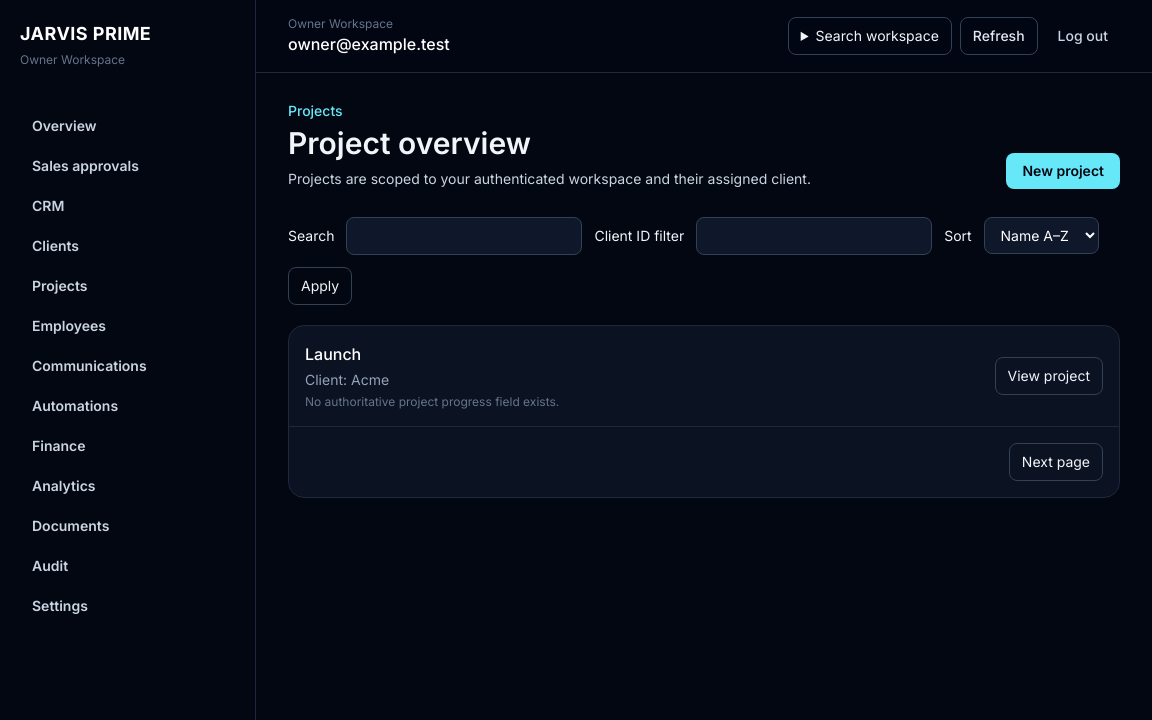
Test: Owner Workspace project quick action › displays a generated Client ID but submits the selected client UUID to the existing owner-scoped endpoint
Click the button "New project" at point(1063, 171), box [1006,153,1120,189]
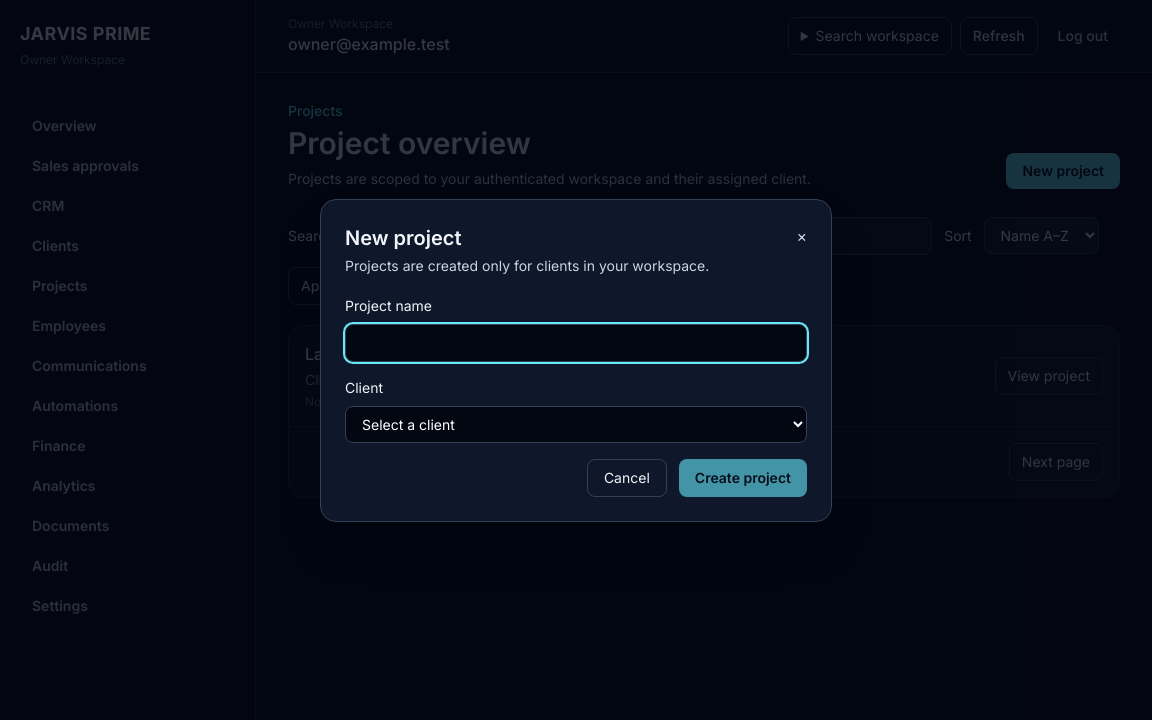
Type "Launch extension" into the field labelled "Project name" at point(576, 342), box [345,324,807,362]
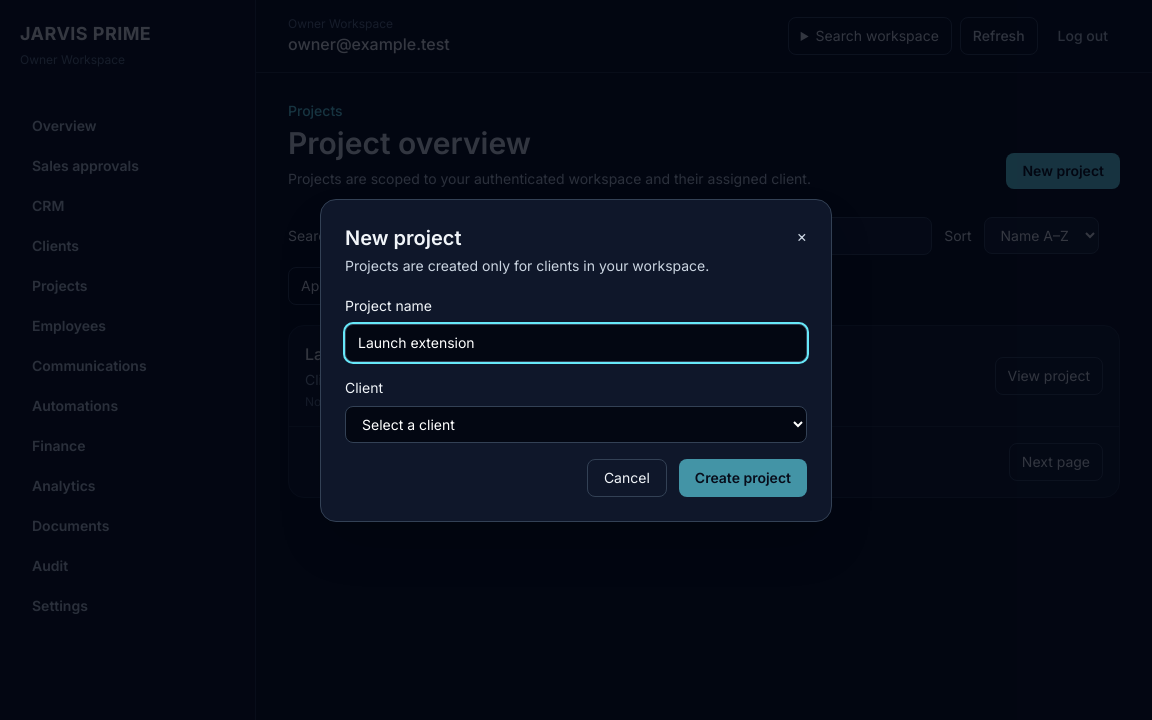
Select "Acme (JP-CLI-000001)" in the dropdown named "Project client" at point(576, 424), box [345,406,807,442]
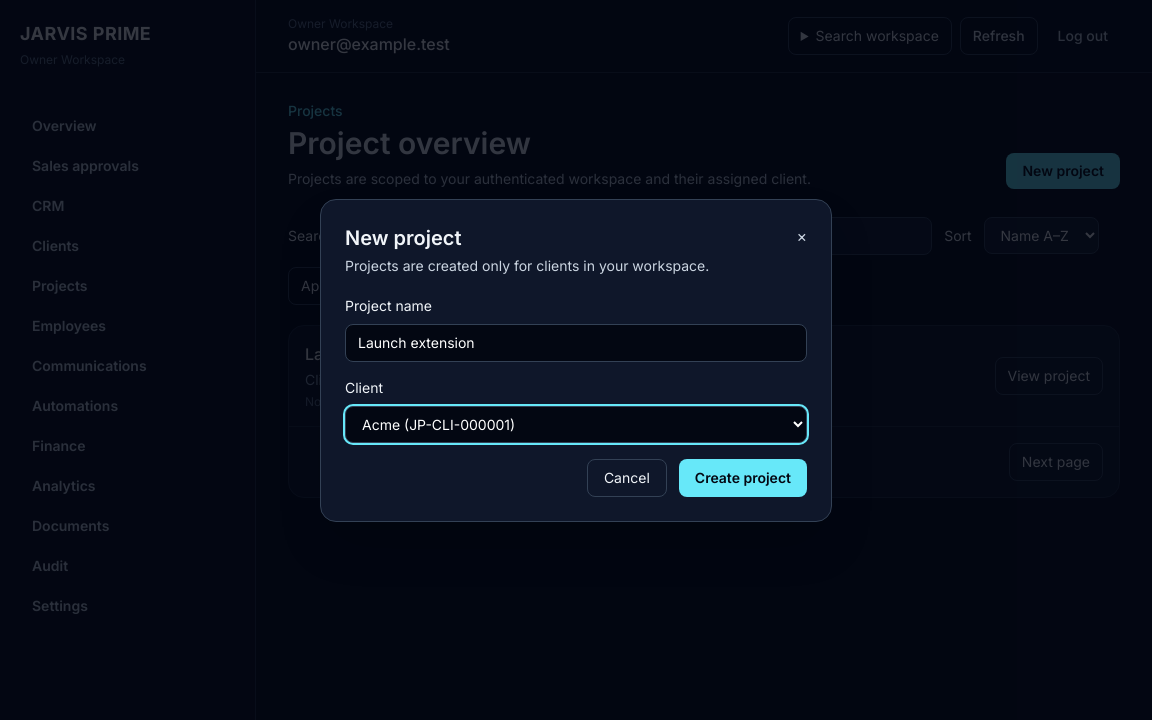
Click the button "Create project" at point(743, 478), box [679,458,807,496]
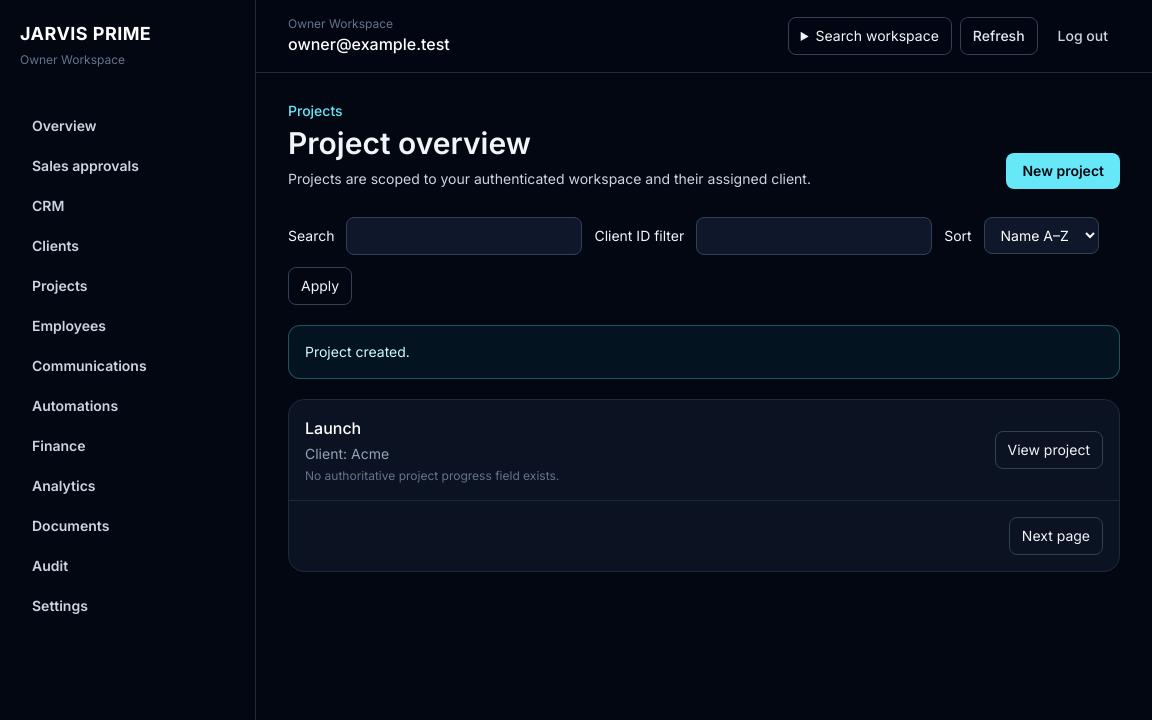
Now the message reads "Project created.", box [305,343,410,360]
